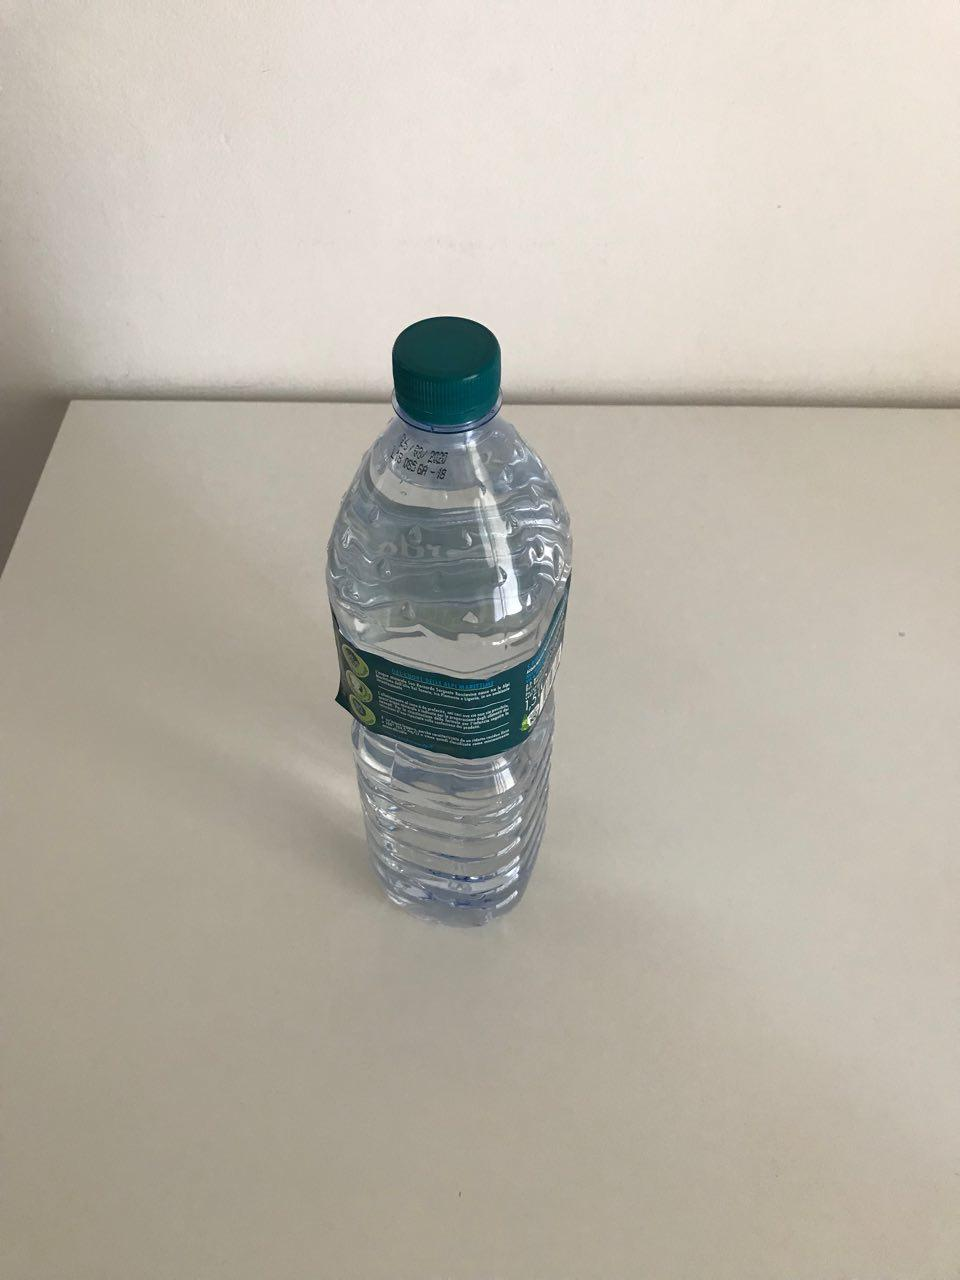san_bernardo: (323, 313, 575, 931)
